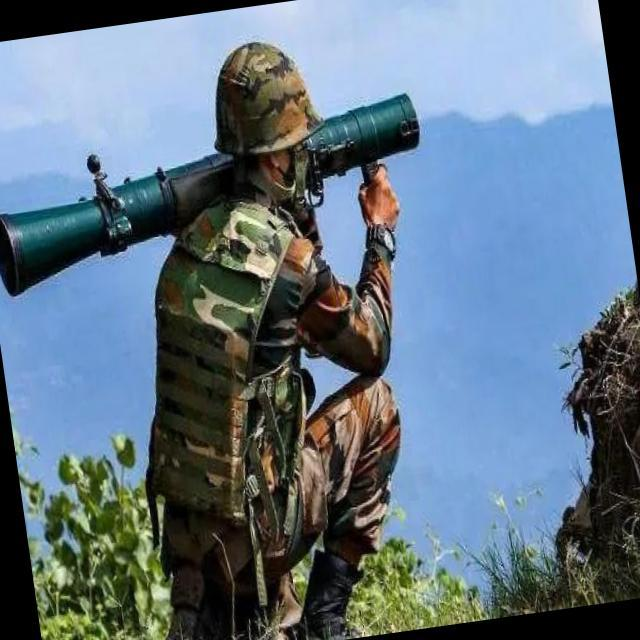rocket: (0, 77, 431, 301)
